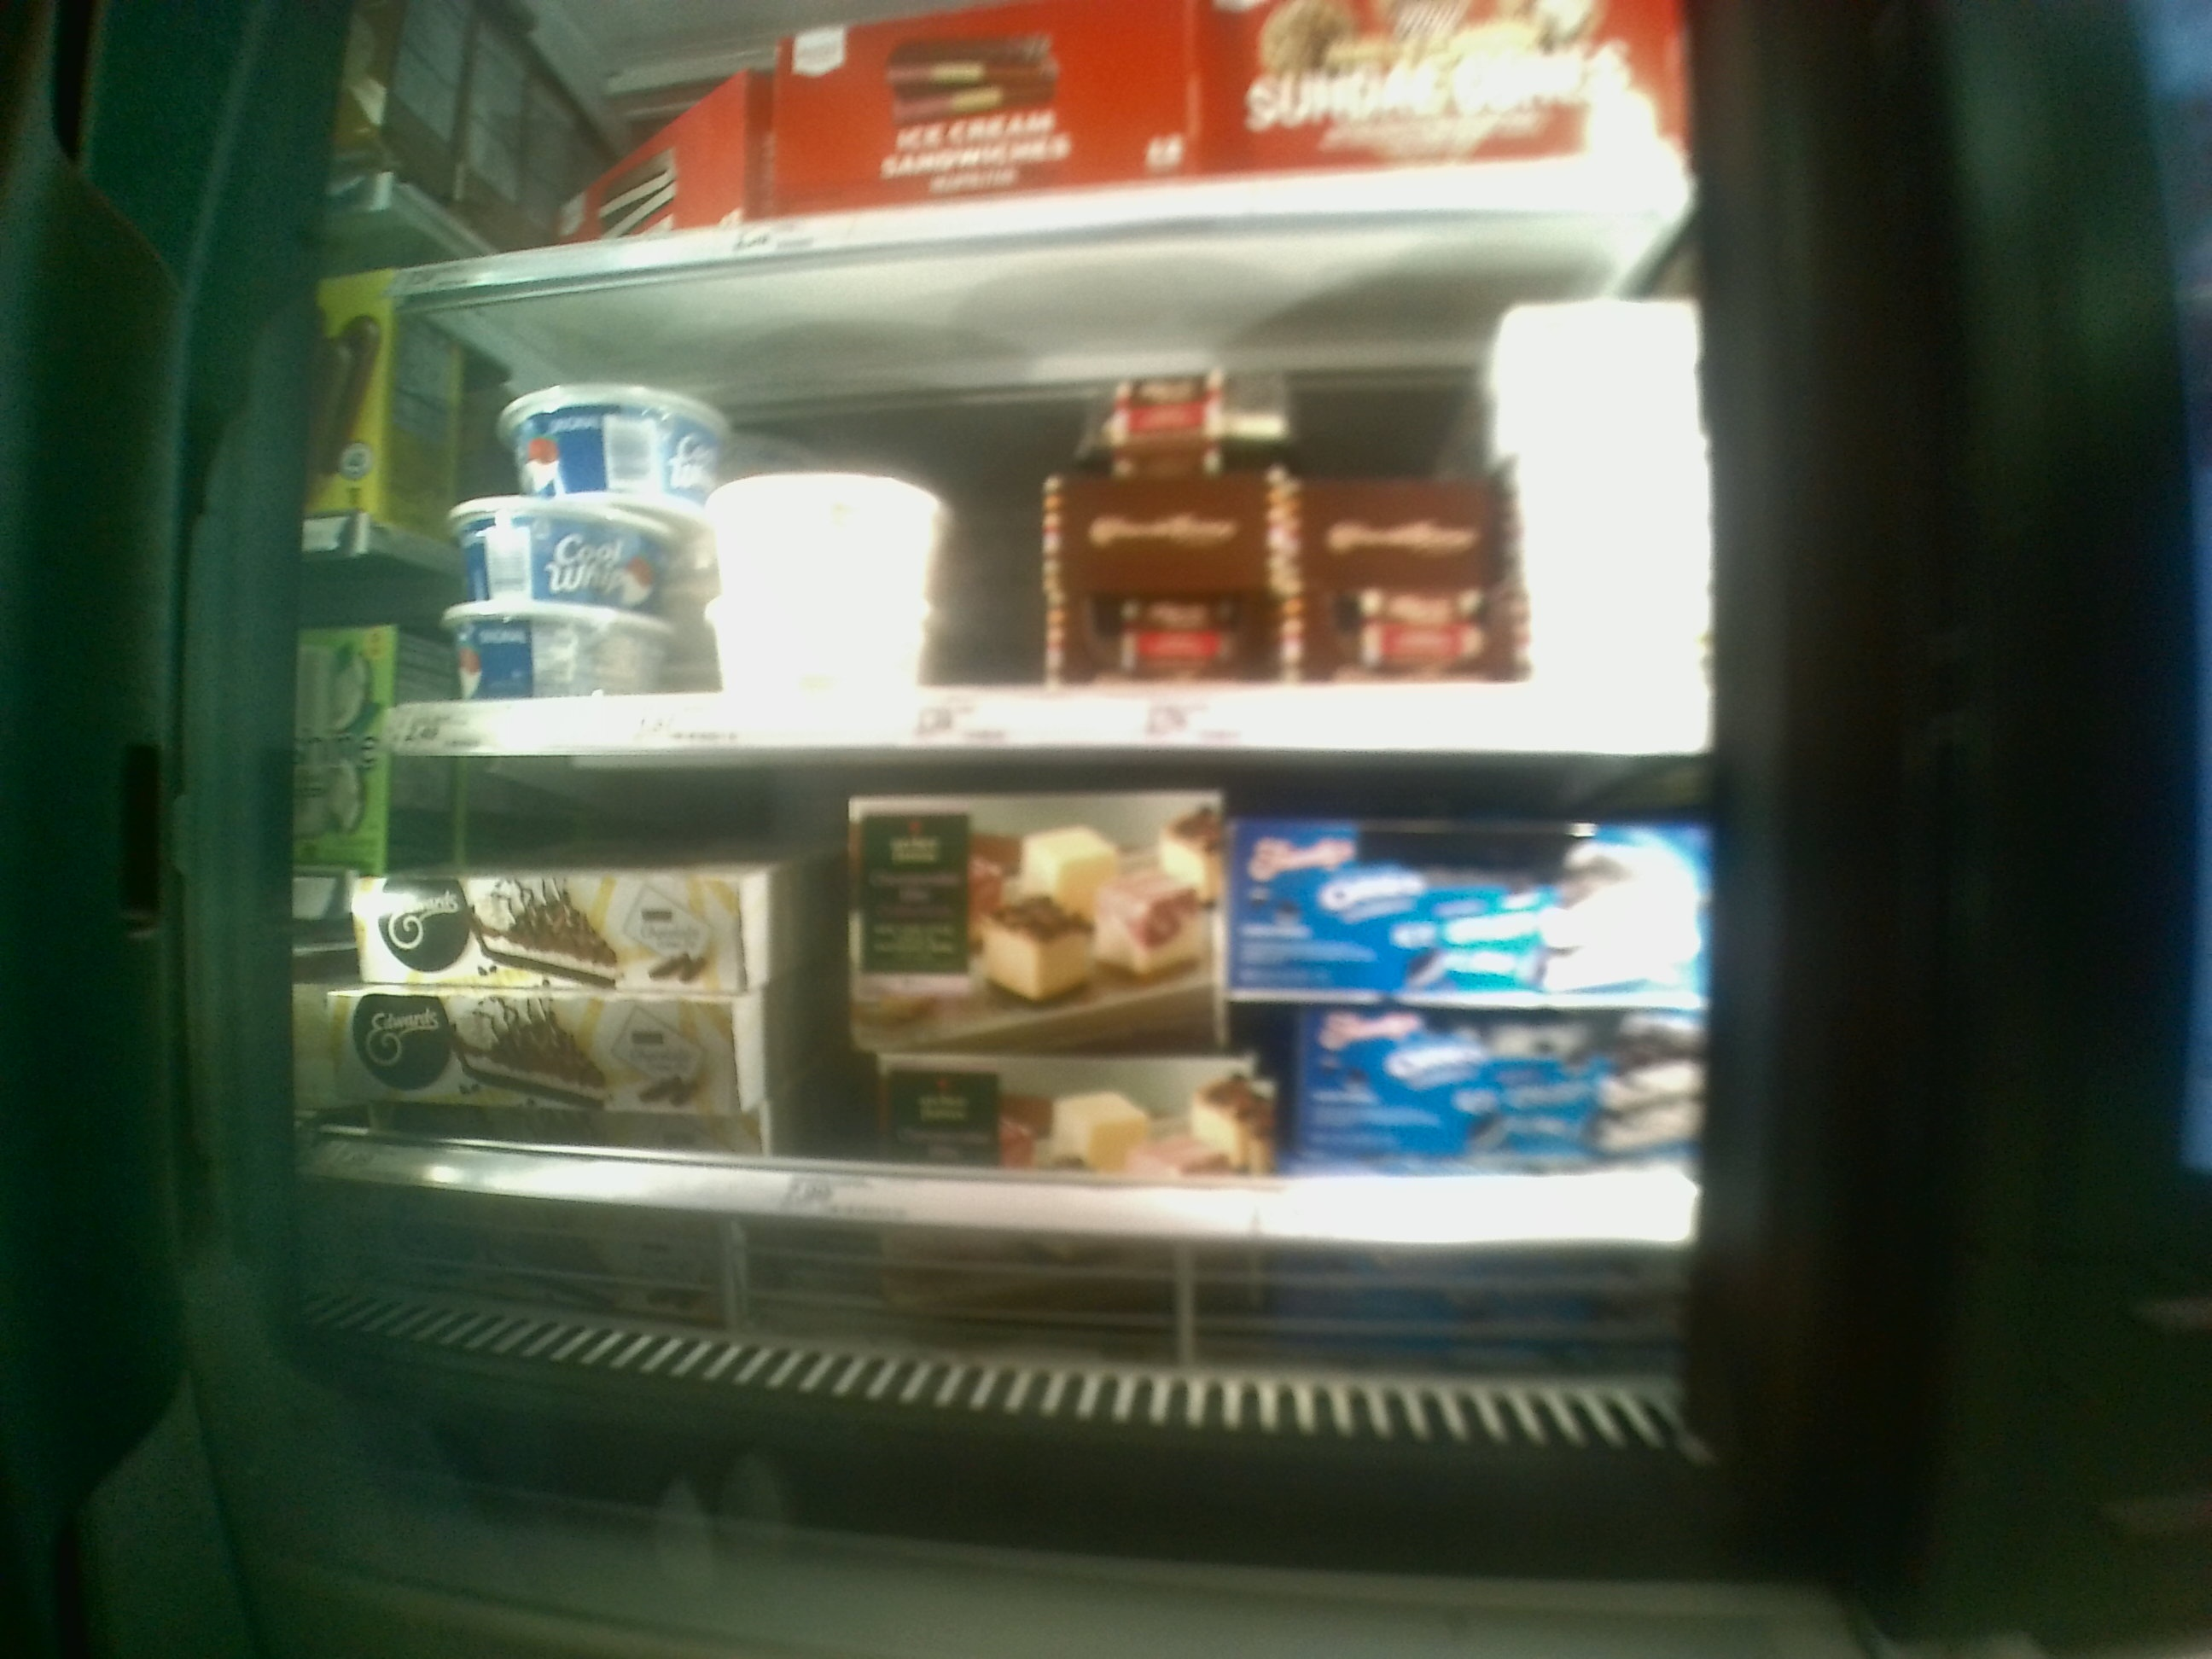shelf: (284, 762, 1721, 1251), (388, 289, 1726, 753)
